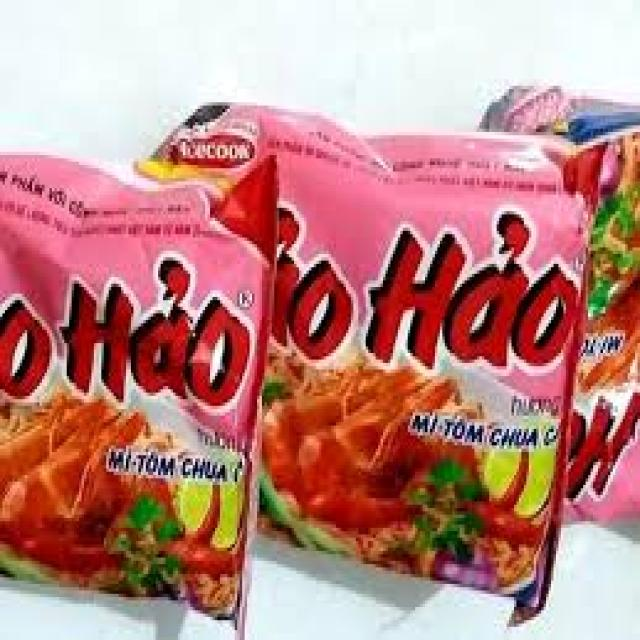mi hao hao: (133, 69, 590, 626), (0, 138, 274, 640)
